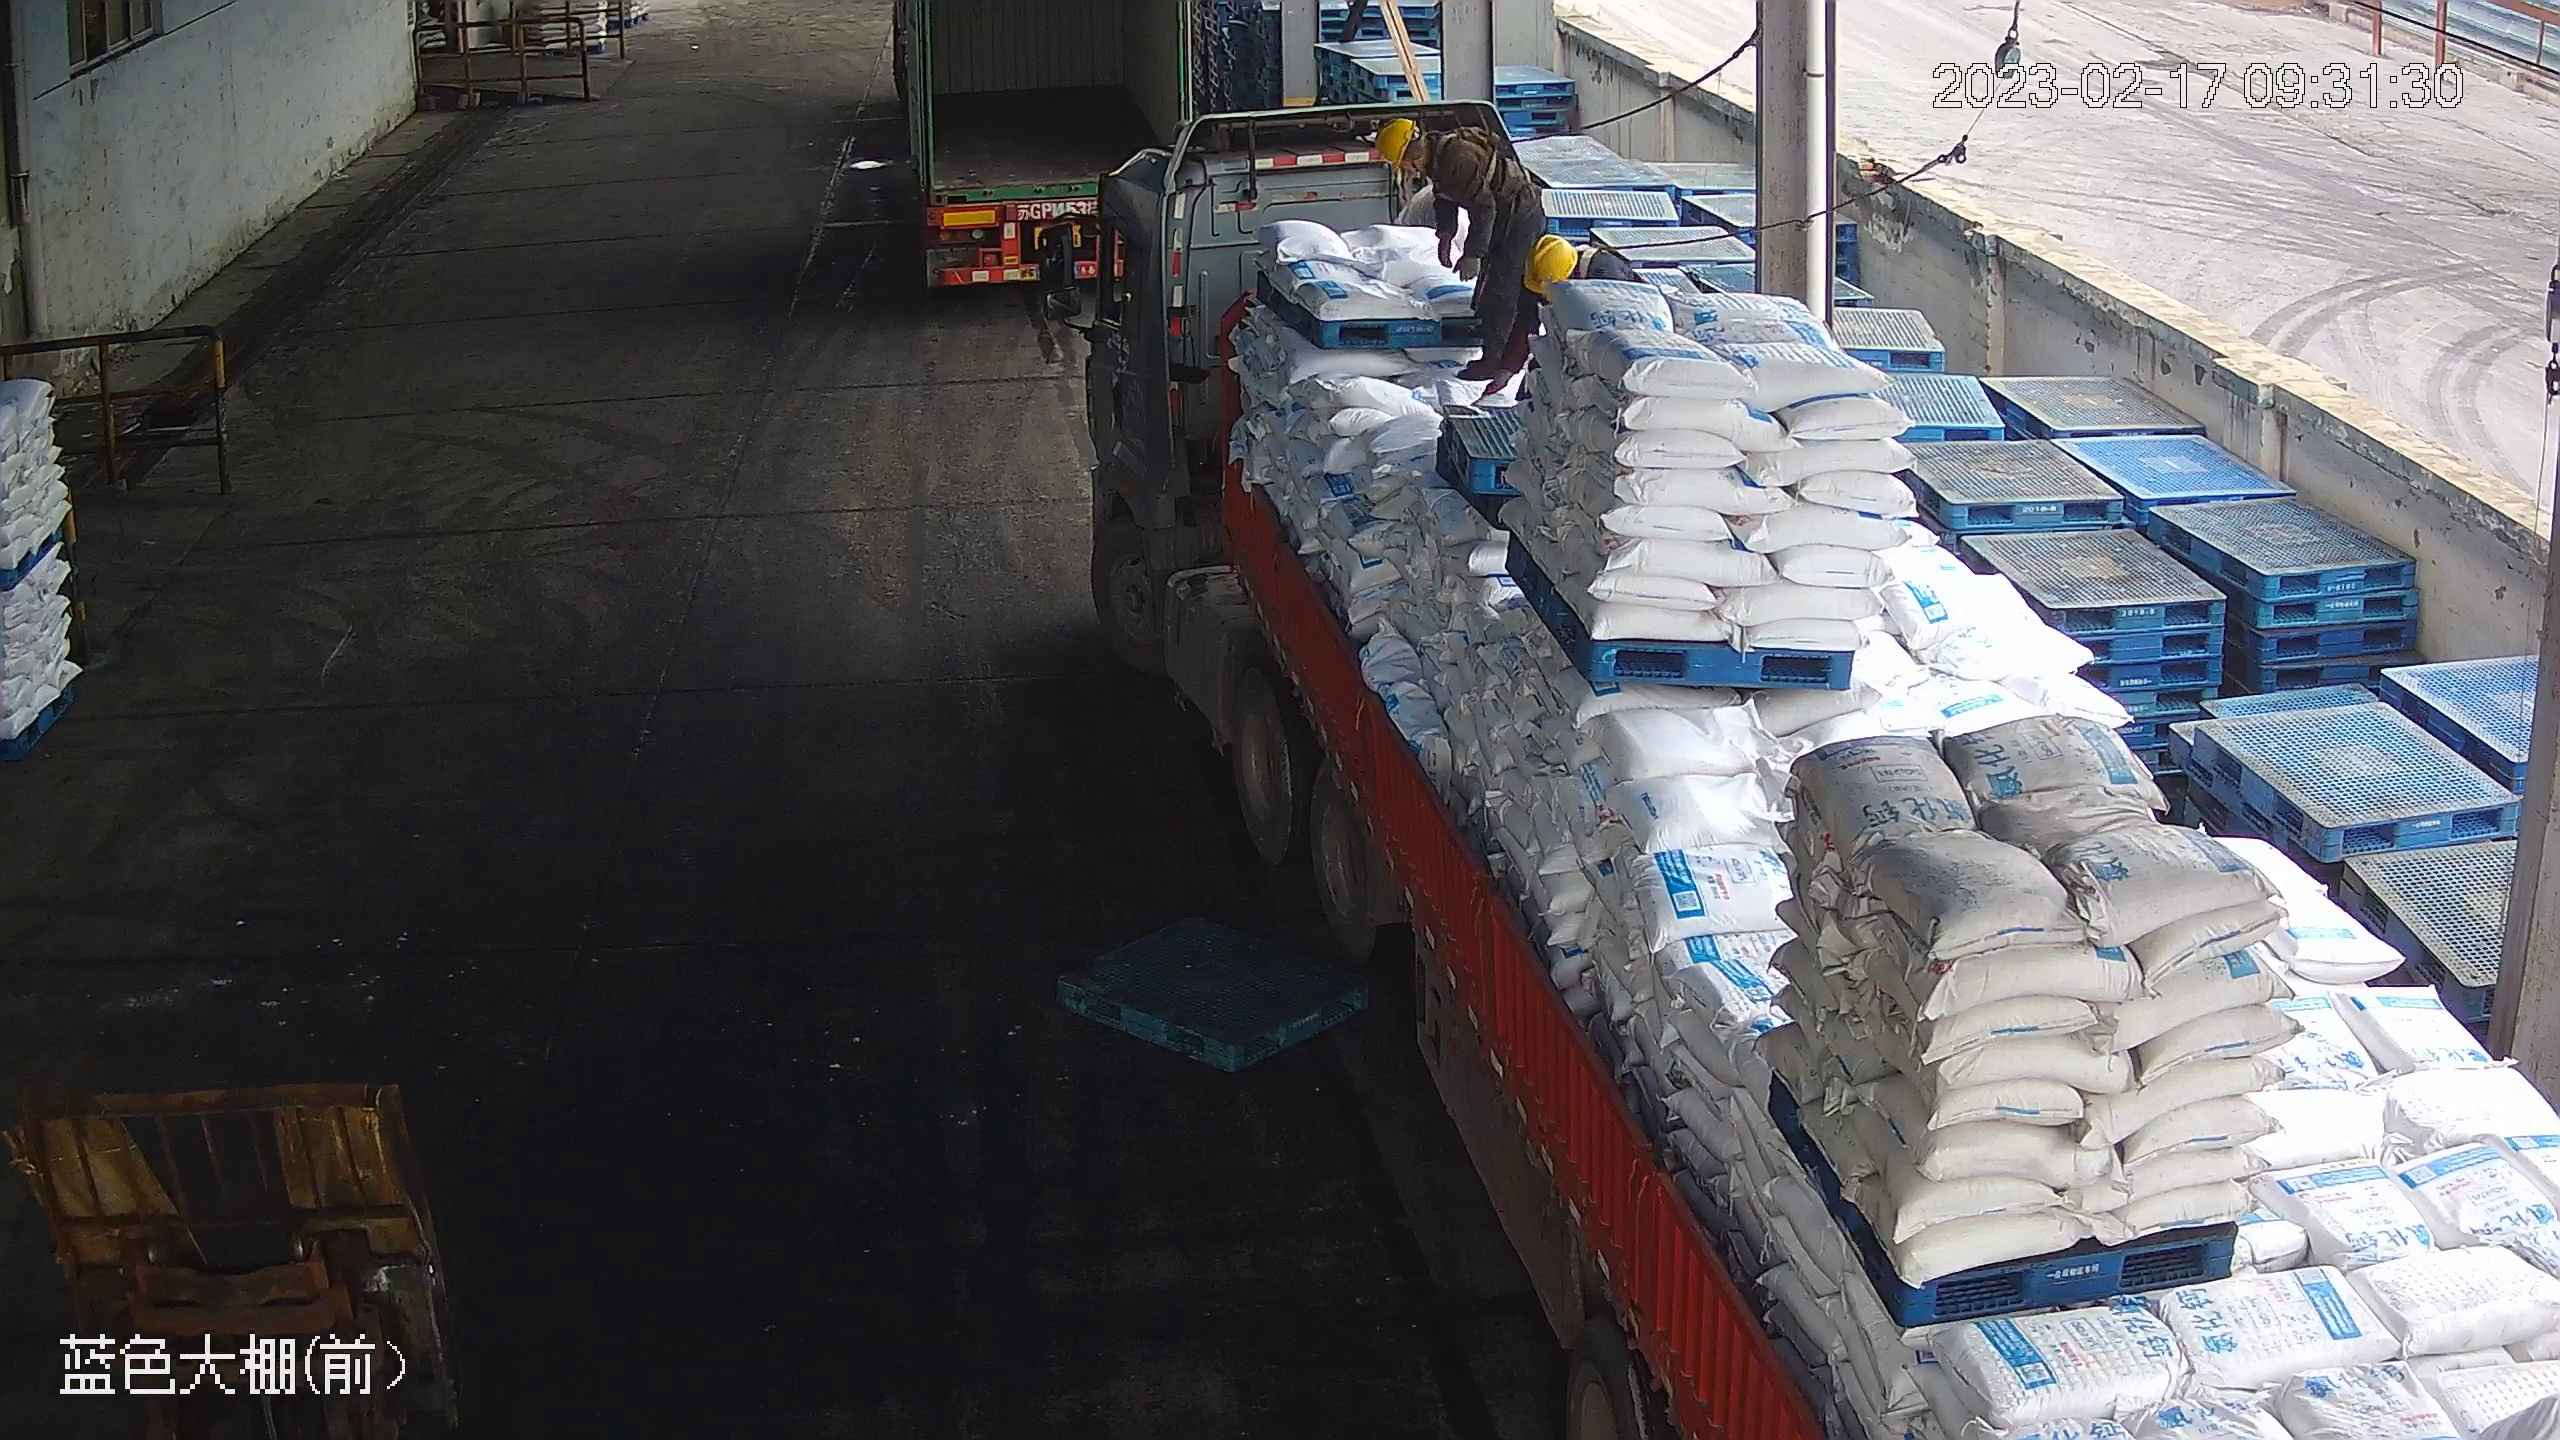belt: (1429, 131, 1514, 206)
head: (1374, 117, 1495, 188)
helmet: (1524, 232, 1578, 293), (1375, 117, 1416, 173)
people: (1375, 117, 1547, 381)
truck: (1085, 99, 2560, 1440)
